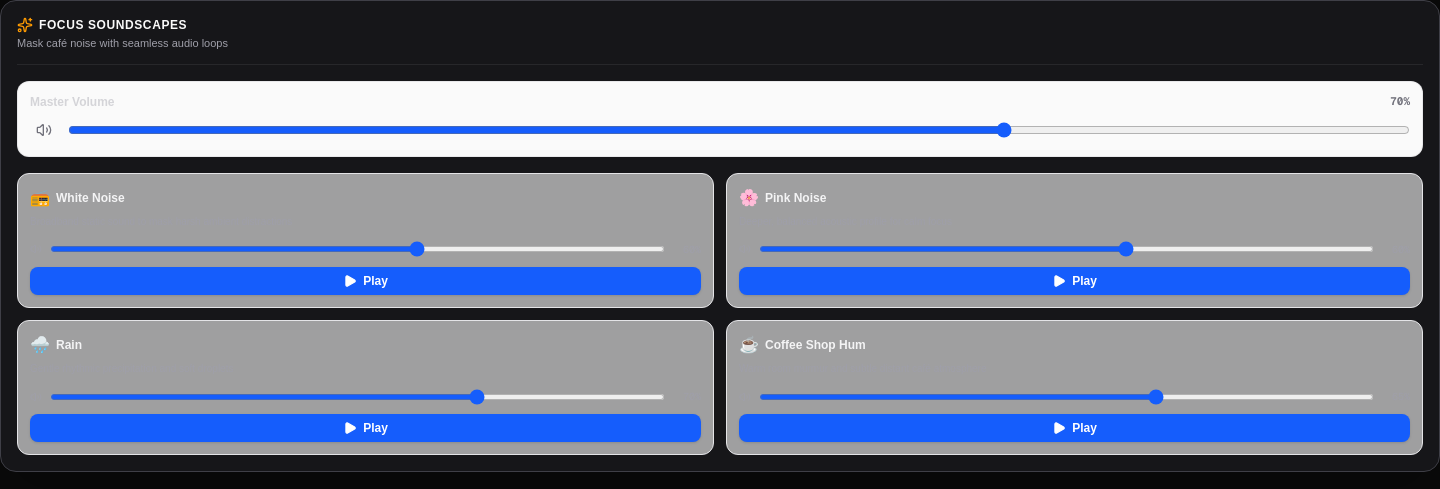
Scenario: AmbientSoundPlayer - Component UI & Soundscape Controls › controls master volume and master mute
Expected: the text with test id "master-volume-label" reads "70%", x1=1390 y1=94 x2=1410 y2=108
Change master volume
Set the slider with test id "master-volume-slider" to "90": point(1269, 130) x1=68 y1=126 x2=1410 y2=134
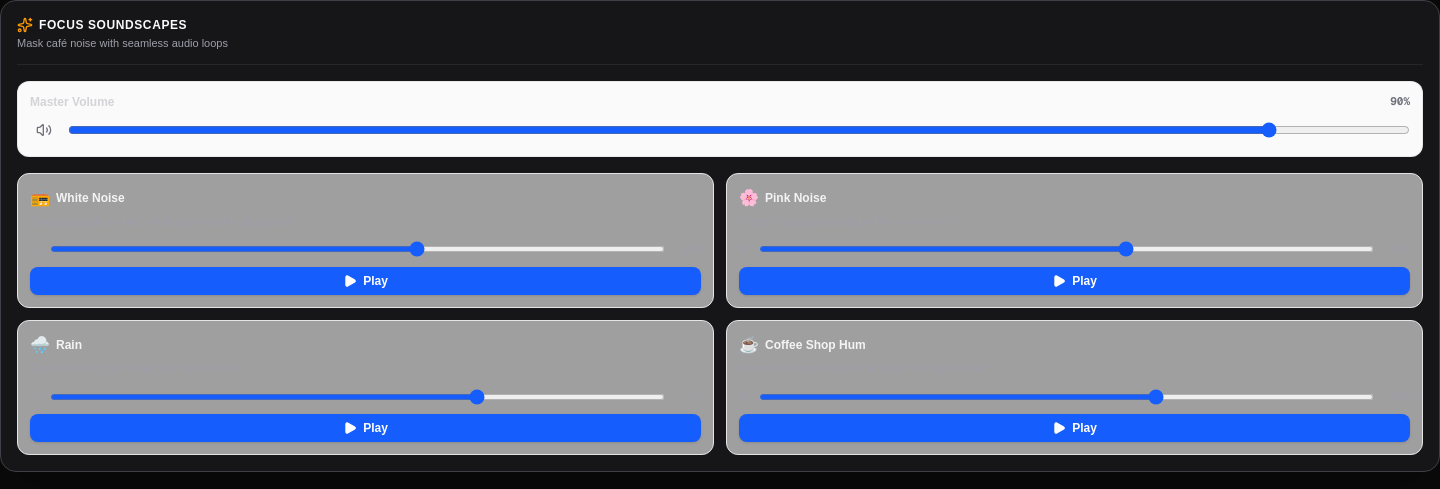
Expected: the text with test id "master-volume-label" reads "90%", x1=1390 y1=94 x2=1410 y2=108
Toggle master mute
Click the button with test id "master-mute-btn": point(44, 130) x1=30 y1=116 x2=58 y2=144
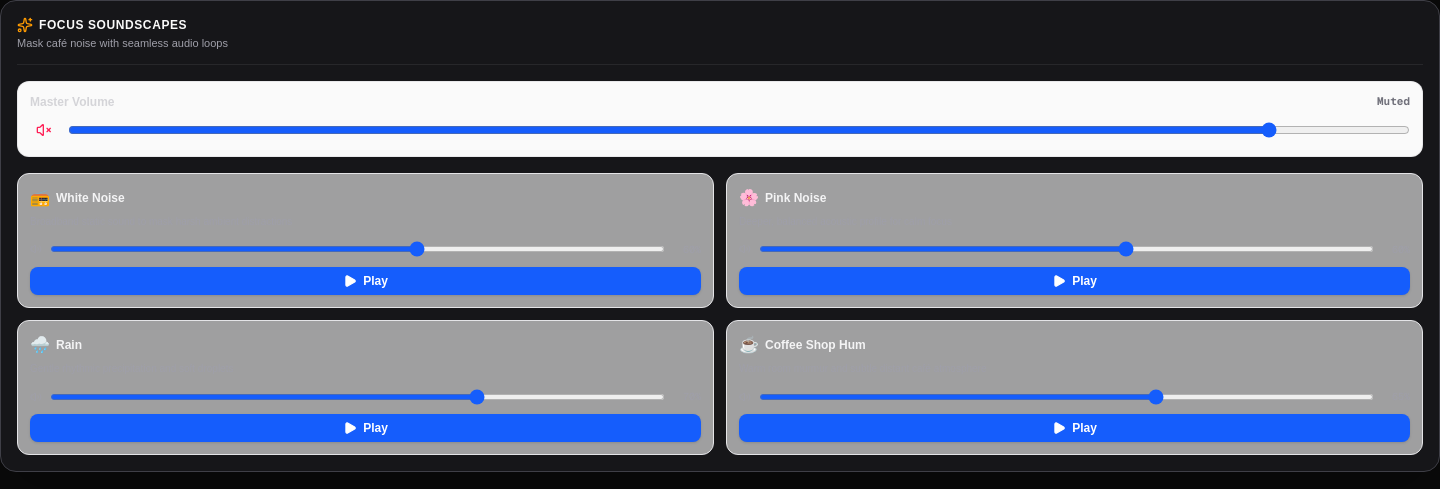
Expected: the text with test id "master-volume-label" reads "Muted", x1=1377 y1=94 x2=1410 y2=108
Click the button with test id "master-mute-btn": point(44, 130) x1=30 y1=116 x2=58 y2=144
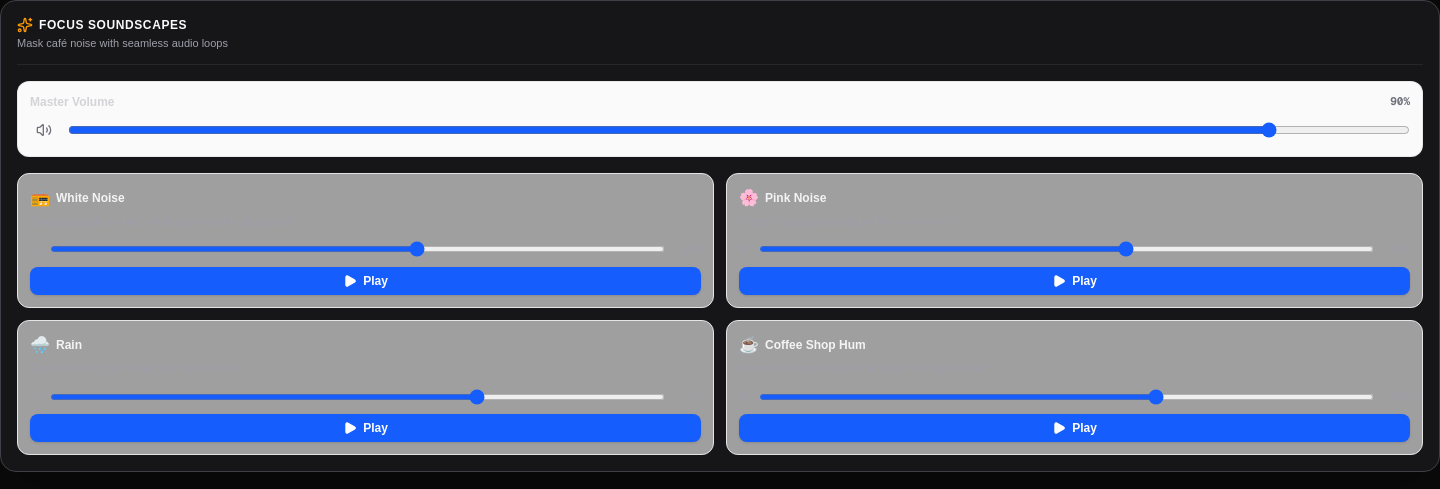
Expected: the text with test id "master-volume-label" reads "90%", x1=1390 y1=94 x2=1410 y2=108
